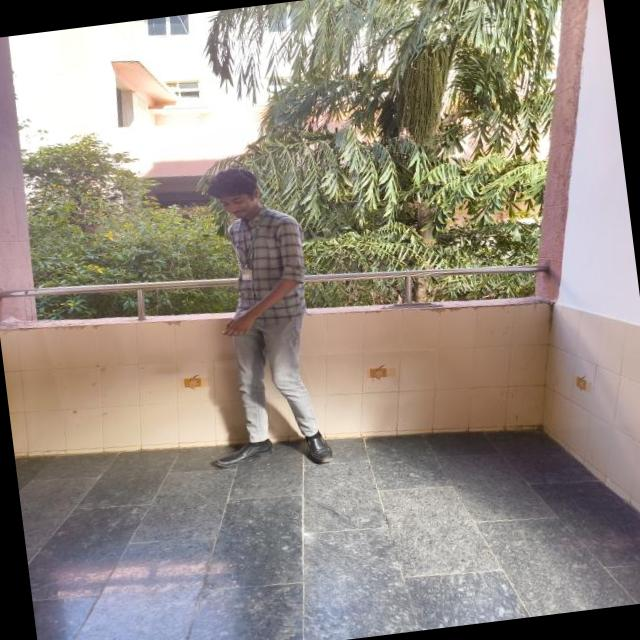id_card: (235, 220, 261, 282)
